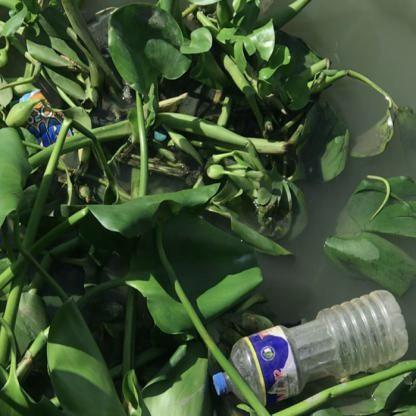Plastic: (210, 287, 409, 402)
Trash: (8, 82, 82, 189)
